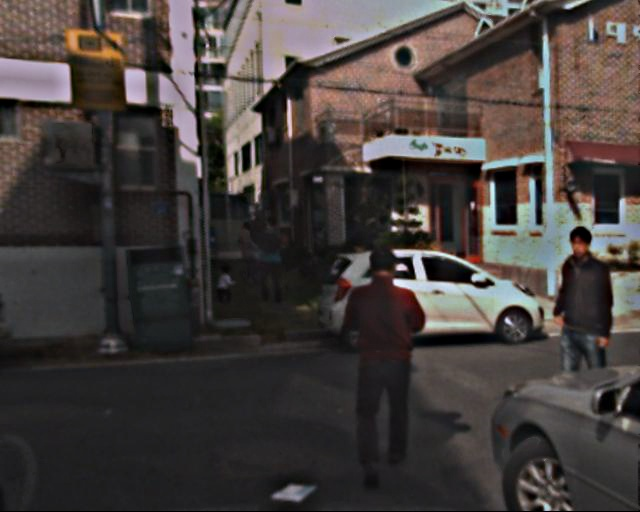person: (334, 248, 432, 490), (533, 227, 629, 456), (253, 215, 292, 311), (237, 220, 262, 280), (215, 261, 235, 314)
